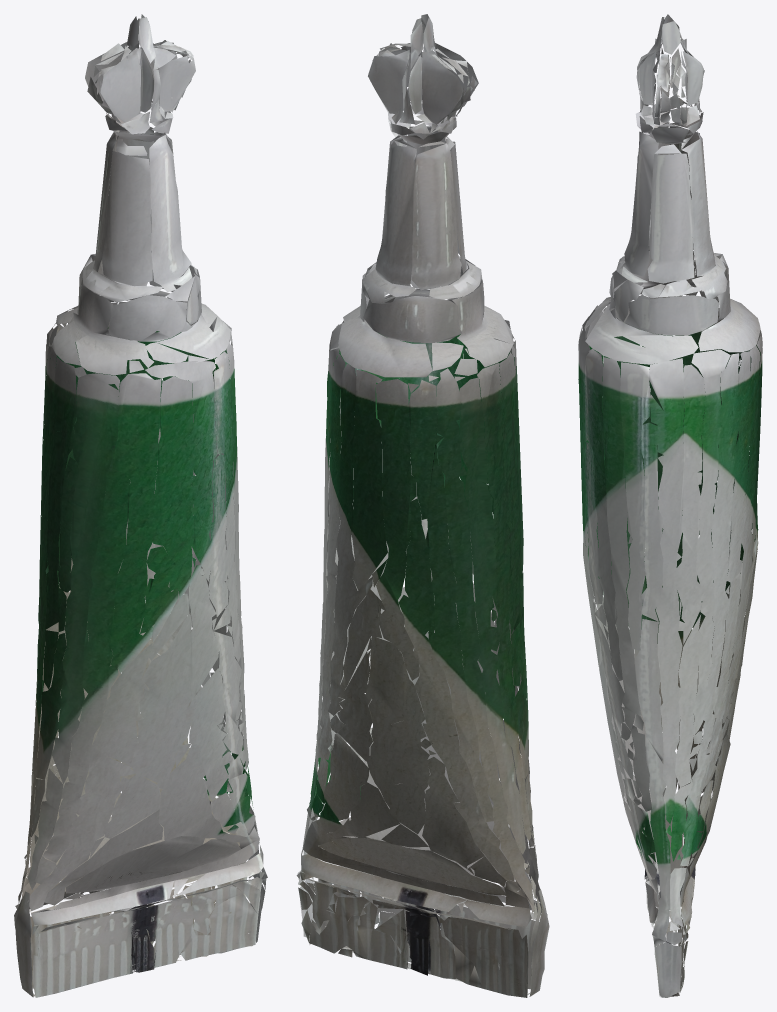
Rendered from P_FleaTube_h14.fbx.
The picture shows the model from 3 angles, left to right: view 1: azimuth 30°, elevation 25°; view 2: azimuth 150°, elevation 25°; view 3: azimuth 270°, elevation 25°; orthographic projection. The views are drawn at different scales.
Visible parts, largest first — view 1: surface_7; view 2: surface_7; view 3: surface_7.
Boxes of the visible parts, x1,y1,x2,y2 form: surface_7: (14,14,267,997); surface_7: (296,14,549,997); surface_7: (578,14,762,997).
Bounding box in the file's own units: 0.2627 × 0.999 × 0.1791.
Materials: 1 (1 with a texture image).
